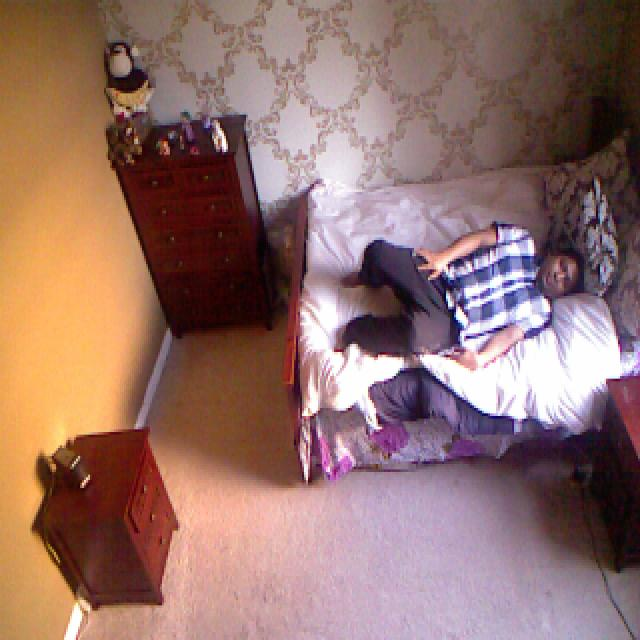lying: (335, 230, 588, 368)
